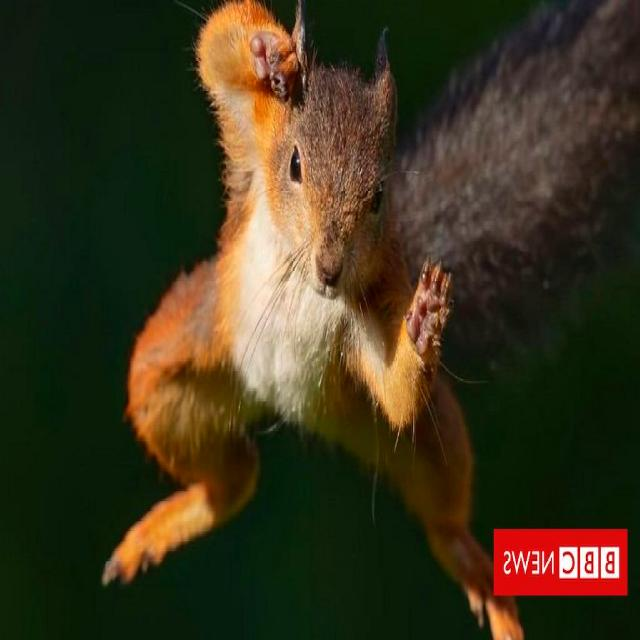squirrel: (103, 0, 640, 639)
